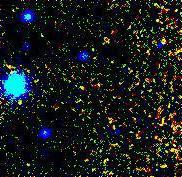star: (5, 87, 35, 117)
